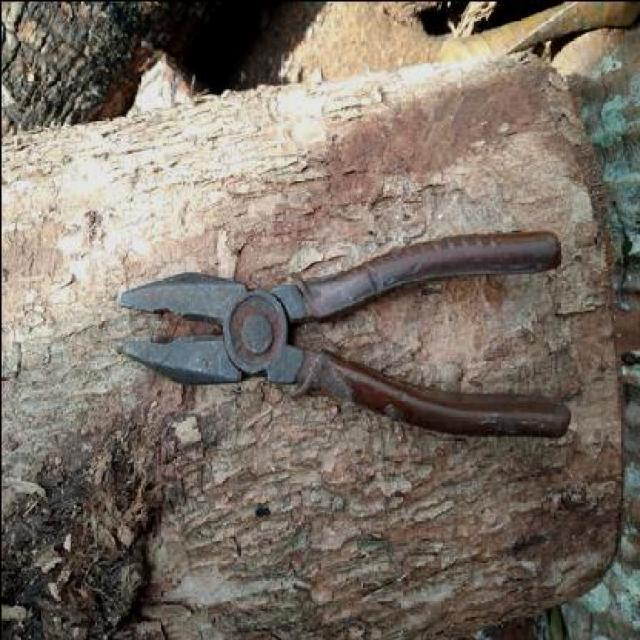pliers: (110, 231, 568, 434)
